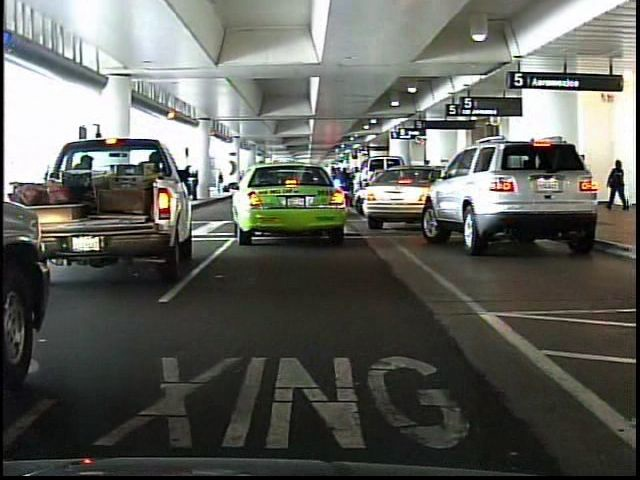person: (607, 160, 631, 217)
